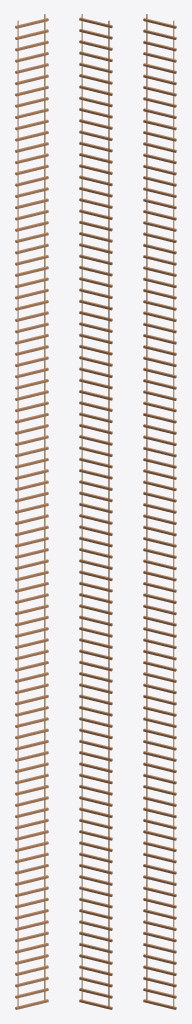
File: Calm_Meadow.fbx
3 renders of one model, left to right at view 1: azimuth 30°, elevation 25°; view 2: azimuth 150°, elevation 25°; view 3: azimuth 330°, elevation 25°, orthographic.
Visible parts, largest first — view 1: Calm_Meadow; view 2: Calm_Meadow; view 3: Calm_Meadow.
Boxes of the visible parts, bbox=[...] form: Calm_Meadow: bbox=[15, 14, 48, 1009]; Calm_Meadow: bbox=[79, 14, 112, 1009]; Calm_Meadow: bbox=[143, 14, 176, 1009].
Size of the model in its own units: 2.4 by 70.08 by 0.1533.
